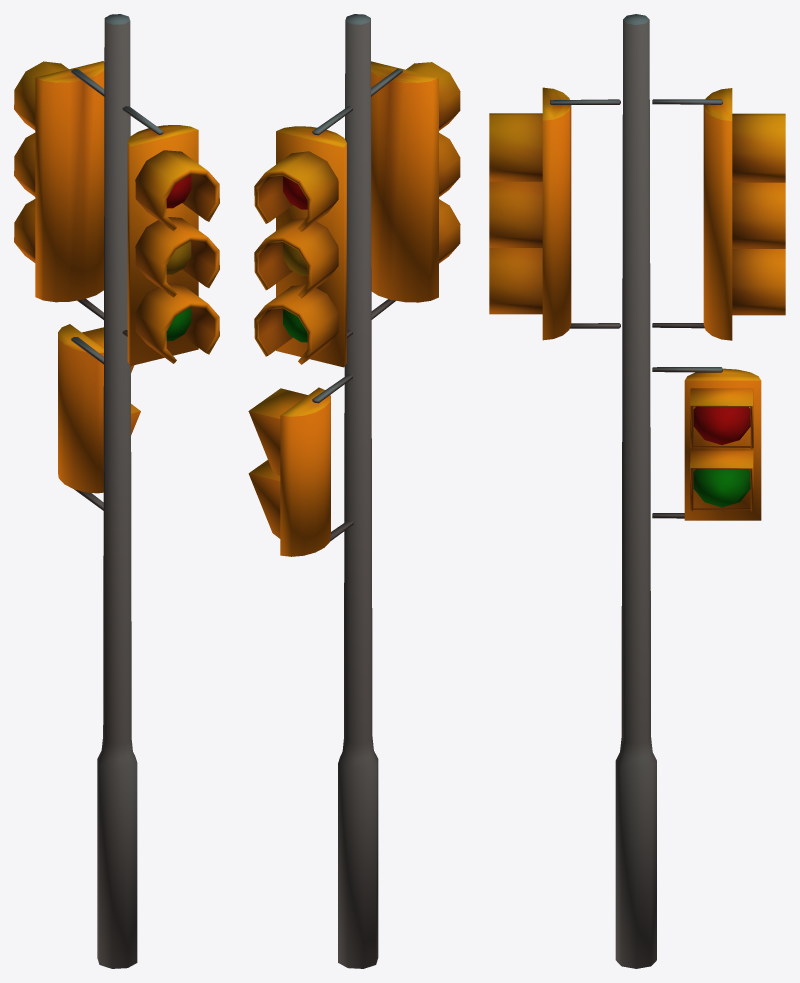
3 renders of one model, left to right at view 1: azimuth 30°, elevation 25°; view 2: azimuth 150°, elevation 25°; view 3: azimuth 270°, elevation 25°, orthographic.
Visible parts, largest first — view 1: base.038; view 2: base.038; view 3: base.038.
Boxes of the visible parts, left/top/right/bottom form: base.038: left=14, top=14, right=219, bottom=968; base.038: left=248, top=14, right=460, bottom=968; base.038: left=489, top=14, right=785, bottom=968.
Bounding box in the file's own units: 0.0474 × 0.5 × 0.1427.
